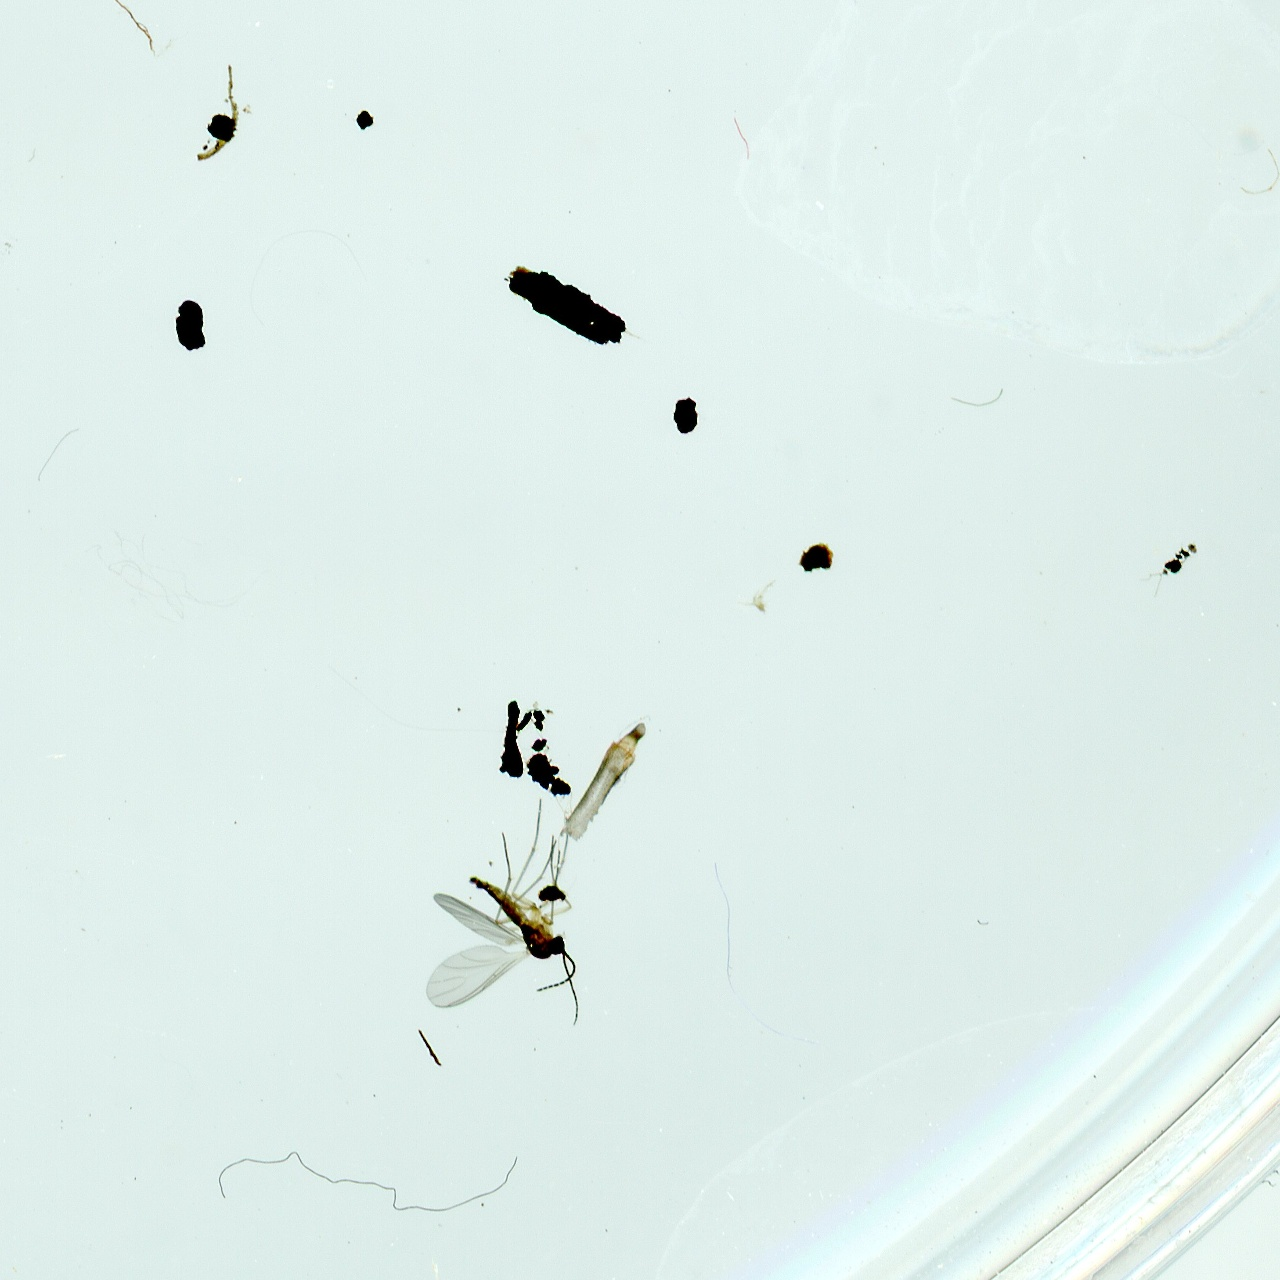arthropod: (418, 790, 588, 1030)
